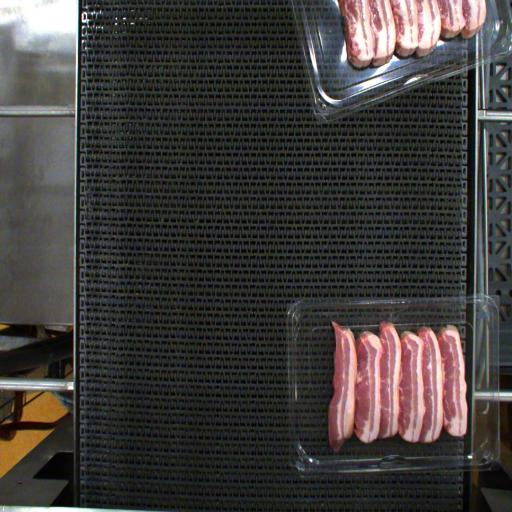packaging-error: (378, 312, 398, 324)
